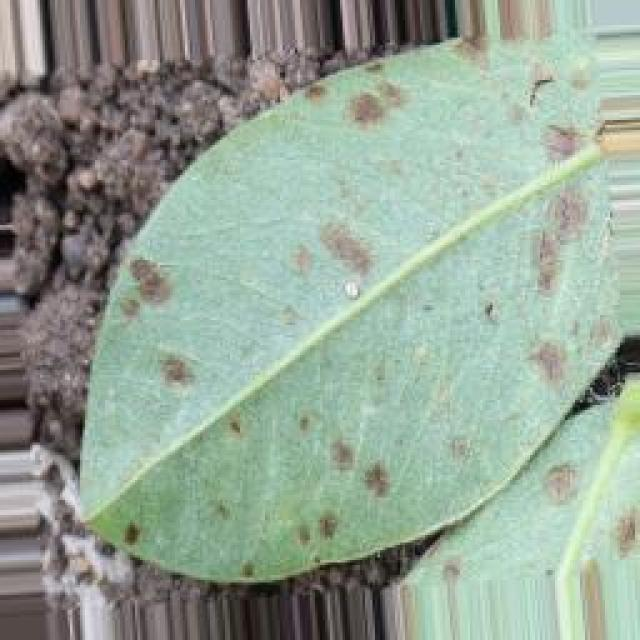Whitefly: (91, 36, 630, 614)
